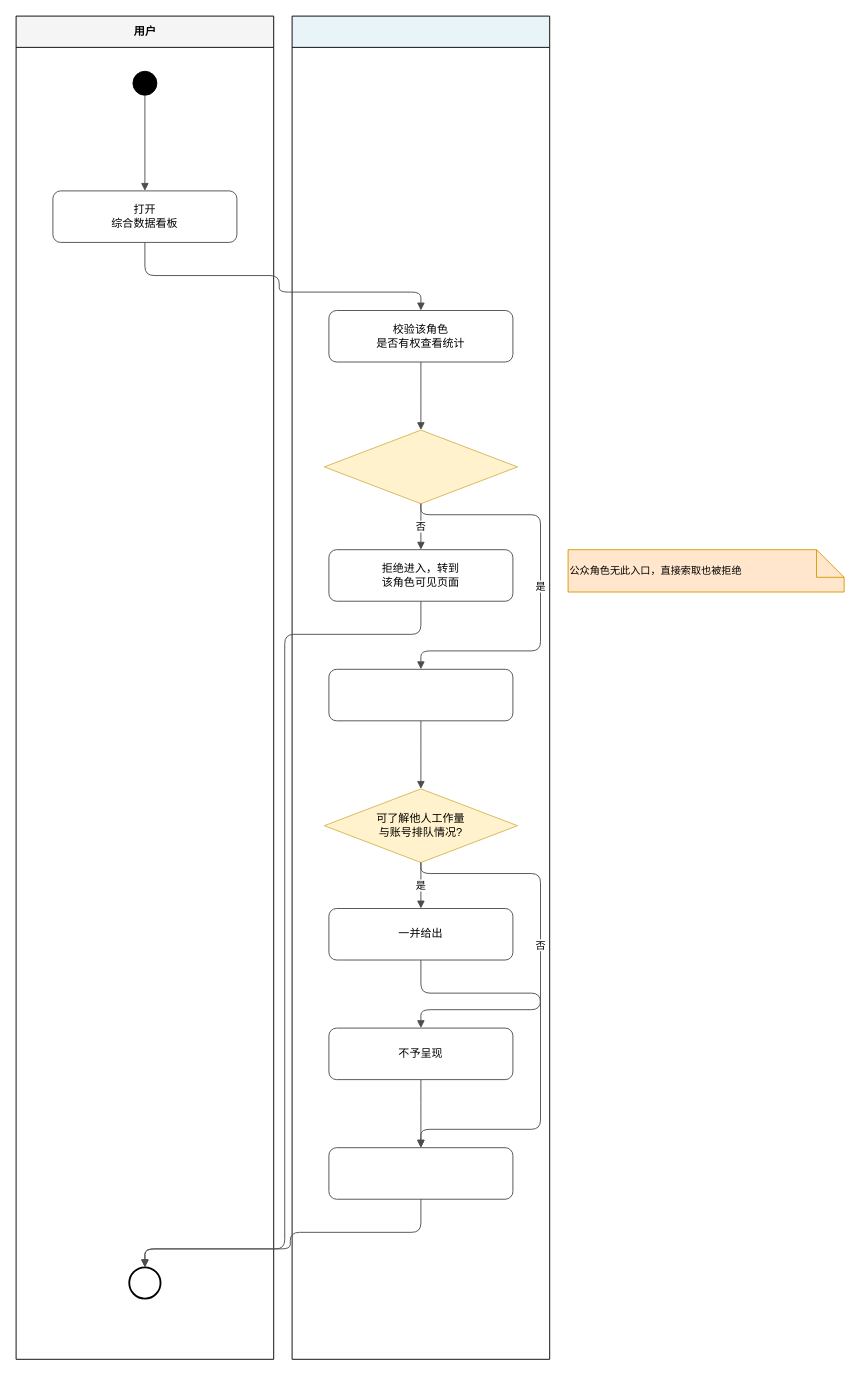
The diagram is 860 pixels wide and 1375 high, and some of its shapes have lost their labels. The box of each missing label's shape, as (x1, y1, x2, y2) in pixels:
呈现概览指标 与分布图: (328, 1147, 513, 1199)
按访问者可见范围 汇总概览与分布统计: (328, 668, 513, 721)
有权查看 统计?: (323, 429, 518, 504)
系统: (291, 15, 550, 1359)
